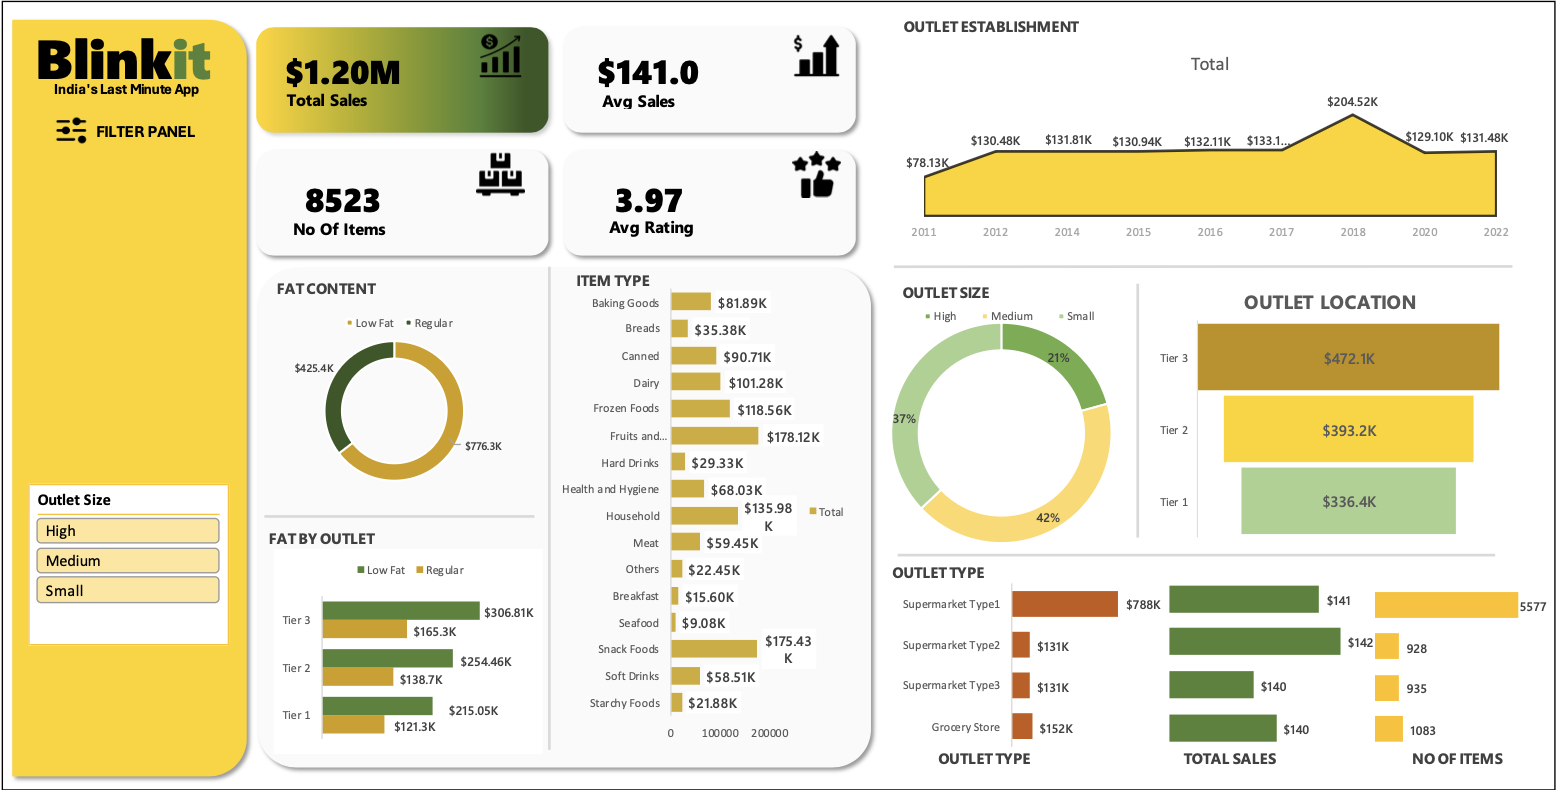

This screenshot's page, from the dashboard's own definition file:
{"tool":"powerbi","page":{"name":"Page 1","canvas":[1400,800],"ordinal":0},"visuals":[{"type":"shape","box":[0,25.5,199.6,750.4],"z":0},{"type":"textbox","box":[18,36,199.6,79.5],"z":1000},{"type":"textbox","box":[14.8,101.2,170,28.4],"z":2000},{"type":"cardVisual","fields":{"Data":["BlinkIT Grocery Data.Total sales","BlinkIT Grocery Data.Average Sales","BlinkIT Grocery Data.Average Rating","BlinkIT Grocery Data.No of Items"]},"box":[216.8,6.8,568.5,271.3],"z":3000},{"type":"shape","box":[216.8,272.7,553.5,499],"z":4000},{"type":"donutChart","title":"FAT CONTENT","fields":{"Y":["BlinkIT Grocery Data.Total sales"],"Category":["BlinkIT Grocery Data.Item Fat Content"]},"box":[233.1,331.3,219.5,229],"z":5000},{"type":"slicer","fields":{"Values":["Metrics .Metrics "]},"box":[261.8,291.8,464.9,39.5],"z":6000},{"type":"cardVisual","fields":{"Data":["BlinkIT Grocery Data.Total sales"]},"box":[283.6,429.4,120,61.4],"z":7000},{"type":"clusteredBarChart","title":"FAT BY OUTLET","fields":{"Y":["BlinkIT Grocery Data.Total sales"],"Category":["BlinkIT Grocery Data.Outlet Location Type"],"Series":["BlinkIT Grocery Data.Item Fat Content"]},"box":[226.3,560.3,226.3,215.4],"z":8000},{"type":"shape","box":[234.5,529,208.6,53.2],"z":9000},{"type":"shape","box":[413.1,362.6,68.2,413.1],"z":10000},{"type":"barChart","title":"Item Type","fields":{"Y":["BlinkIT Grocery Data.Total sales"],"Category":["BlinkIT Grocery Data.Item Type"]},"box":[463.5,331.3,289,413.1],"z":11000},{"type":"shape","box":[785.3,0,591.7,785.3],"z":12000},{"type":"lineChart","title":"OUTLET ESTABLISHMENT","fields":{"Y":["BlinkIT Grocery Data.Total sales"],"Category":["BlinkIT Grocery Data.Outlet Establishment Year"]},"box":[804.4,25.9,544,234.5],"z":13000},{"type":"shape","box":[801.6,233.1,557.6,53.2],"z":14000},{"type":"donutChart","title":"OUTLET SIZE","fields":{"Y":["BlinkIT Grocery Data.Total sales"],"Category":["BlinkIT Grocery Data.Outlet Size"]},"box":[801.6,272.7,275.4,224.9],"z":15000},{"type":"shape","box":[1048.4,260.4,68.2,237.2],"z":16000},{"type":"funnel","title":"OUTLET LOCATION","fields":{"Y":["BlinkIT Grocery Data.Total sales"],"Category":["BlinkIT Grocery Data.Outlet Location Type"]},"box":[1096.1,263.1,252.2,234.5],"z":17000},{"type":"shape","box":[801.6,469,557.6,53.2],"z":18000},{"type":"pivotTable","title":"OUTLET TYPR","fields":{"Rows":["BlinkIT Grocery Data.Outlet Type"],"Values":["BlinkIT Grocery Data.Total sales","BlinkIT Grocery Data.No of Items","BlinkIT Grocery Data.Average Sales","BlinkIT Grocery Data.Average Rating","Avg(BlinkIT Grocery Data.Item Visibility)"]},"box":[801.6,511.2,559,233.1],"z":19000},{"type":"slicer","fields":{"Values":["BlinkIT Grocery Data.Outlet Location Type"]},"box":[15,312.2,170.4,68.2],"z":20000},{"type":"slicer","fields":{"Values":["BlinkIT Grocery Data.Outlet Size"]},"box":[15,385.8,170.4,68.2],"z":21000},{"type":"slicer","fields":{"Values":["BlinkIT Grocery Data.Item Type"]},"box":[15,460.8,170.4,68.2],"z":22000},{"type":"textbox","box":[40.9,278.1,117.2,43.6],"z":22001}]}

Visuals, with their boxes on the page's 1400x800 design canvas (x1, y1, x2, y2). These are canvas units, not pixel positions in the 1556x790 screenshot, which may show the page scaled, cropped or inside an application window:
shape: <region>0, 26, 200, 776</region>
textbox: <region>18, 36, 218, 116</region>
textbox: <region>15, 101, 185, 130</region>
cardVisual - BlinkIT Grocery Data.Total sales x BlinkIT Grocery Data.Average Sales: <region>217, 7, 785, 278</region>
shape: <region>217, 273, 770, 772</region>
"FAT CONTENT" donutChart: <region>233, 331, 453, 560</region>
slicer - Metrics .Metrics : <region>262, 292, 727, 331</region>
cardVisual - BlinkIT Grocery Data.Total sales: <region>284, 429, 404, 491</region>
"FAT BY OUTLET" clusteredBarChart: <region>226, 560, 453, 776</region>
shape: <region>234, 529, 443, 582</region>
shape: <region>413, 363, 481, 776</region>
"Item Type" barChart: <region>464, 331, 752, 744</region>
shape: <region>785, 0, 1377, 785</region>
"OUTLET ESTABLISHMENT" lineChart: <region>804, 26, 1348, 260</region>
shape: <region>802, 233, 1359, 286</region>
"OUTLET SIZE" donutChart: <region>802, 273, 1077, 498</region>
shape: <region>1048, 260, 1117, 498</region>
"OUTLET LOCATION" funnel: <region>1096, 263, 1348, 498</region>
shape: <region>802, 469, 1359, 522</region>
"OUTLET TYPR" pivotTable: <region>802, 511, 1361, 744</region>
slicer - BlinkIT Grocery Data.Outlet Location Type: <region>15, 312, 185, 380</region>
slicer - BlinkIT Grocery Data.Outlet Size: <region>15, 386, 185, 454</region>
slicer - BlinkIT Grocery Data.Item Type: <region>15, 461, 185, 529</region>
textbox: <region>41, 278, 158, 322</region>
